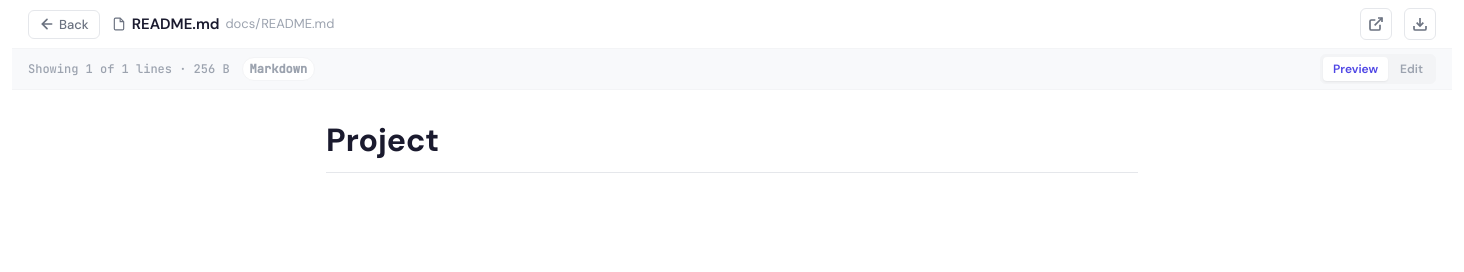
Test: FileViewer › offers exactly Preview and Edit modes for an editable Markdown file
The image size is (1464, 272).
Check: the element with class "markdown-preview" is shown, box [326, 120, 1138, 173]
Click the tab "Edit" at [1412, 69], box [1390, 57, 1433, 81]
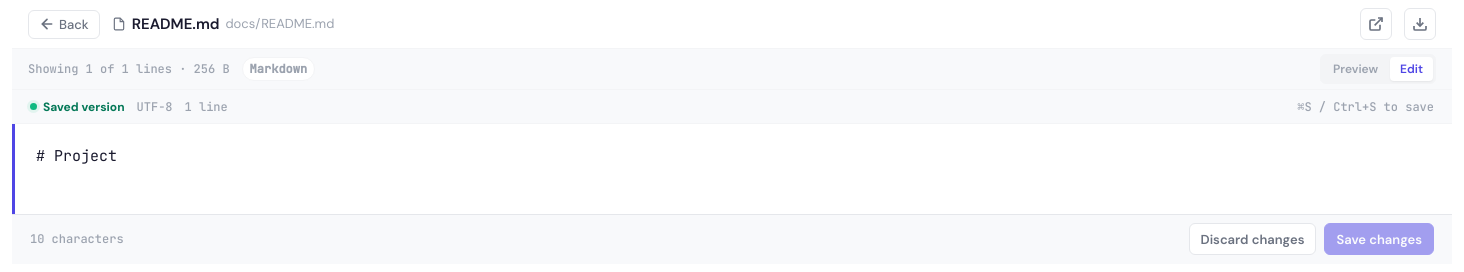
Check: the element with class "editor-status-strip" shows "1 line", box [185, 98, 228, 114]
